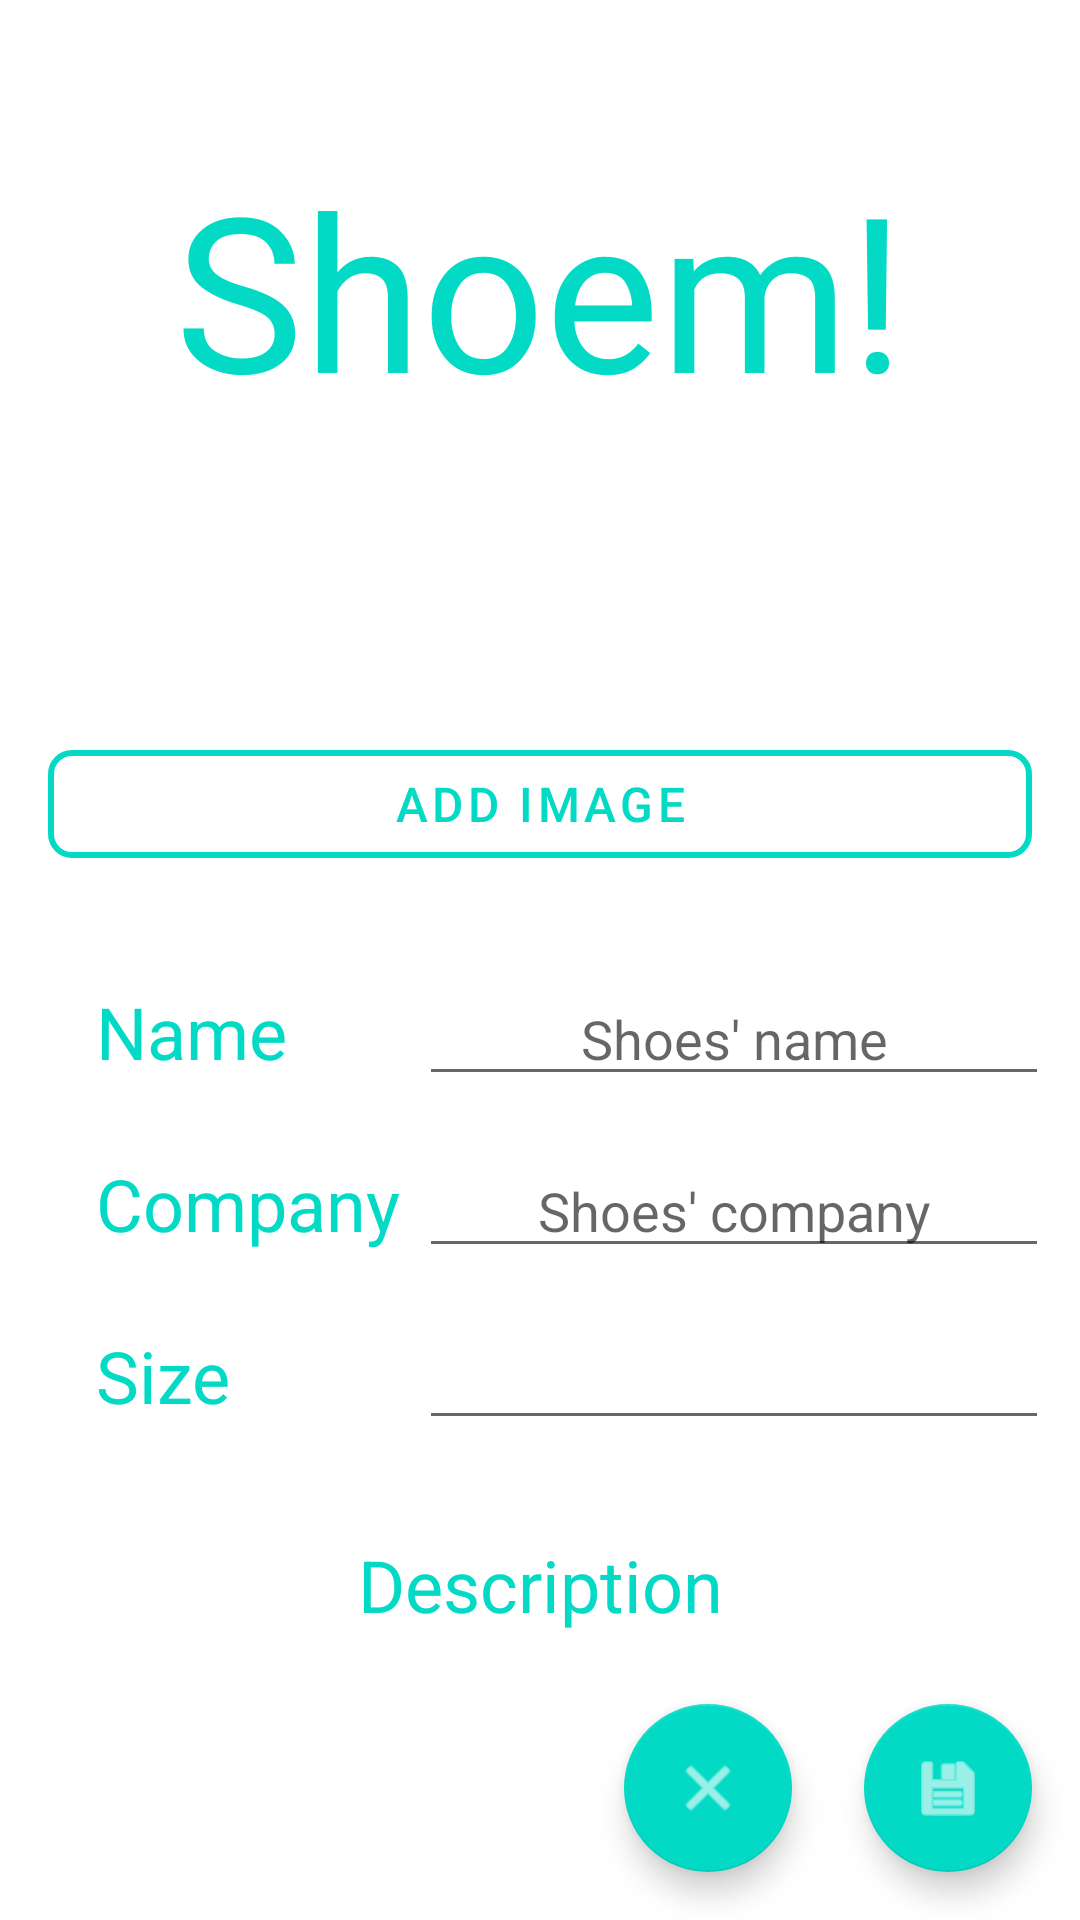

Icon click points for this 1080px x 1920px phone screenshot, format (x,y):
Close button: (708,1788)
Save button: (948,1788)
